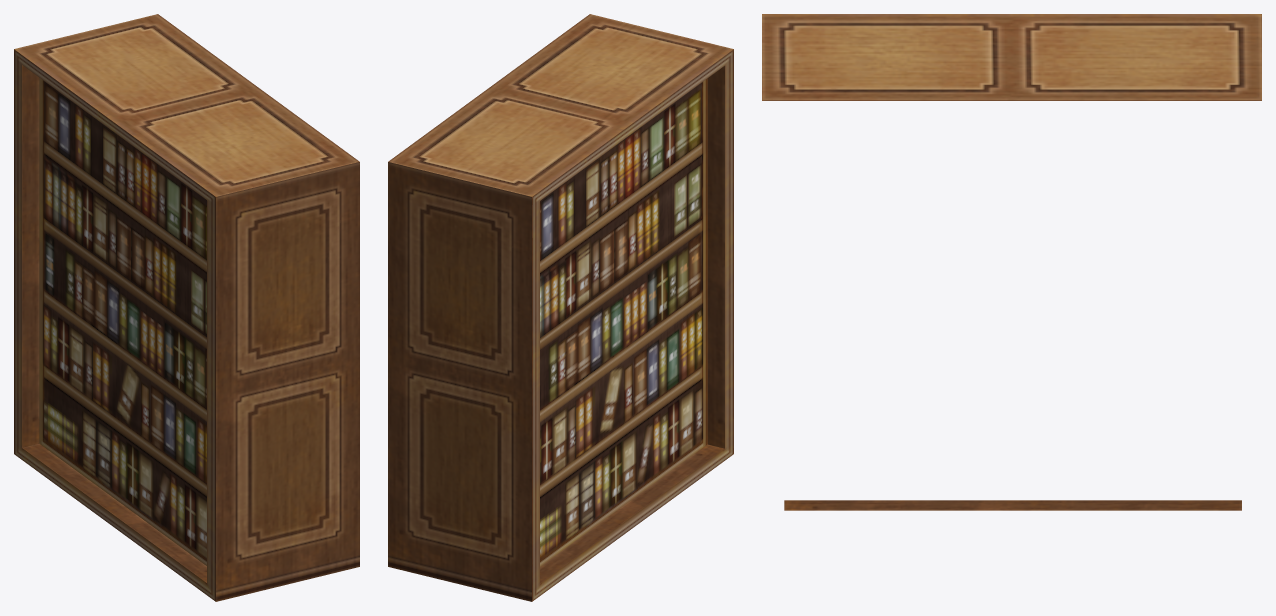
Rendered from a_SCbookcase01_5.glb.
3 views of the same model, side by side, from view 1: azimuth 30°, elevation 25°; view 2: azimuth 150°, elevation 25°; view 3: azimuth 270°, elevation 25° (orthographic). The views are drawn at different scales.
Parts seen in each view (by area): view 1: a_SCbookcase01_5; view 2: a_SCbookcase01_5; view 3: a_SCbookcase01_5.
Part boxes in pixels (x1,y1,x2,y2): a_SCbookcase01_5: (14,14,359,601); a_SCbookcase01_5: (388,14,733,601); a_SCbookcase01_5: (762,14,1261,510).
Size of the model in its own units: 0.823 by 2.21 by 2.
Materials: 1 (1 with a texture image).
